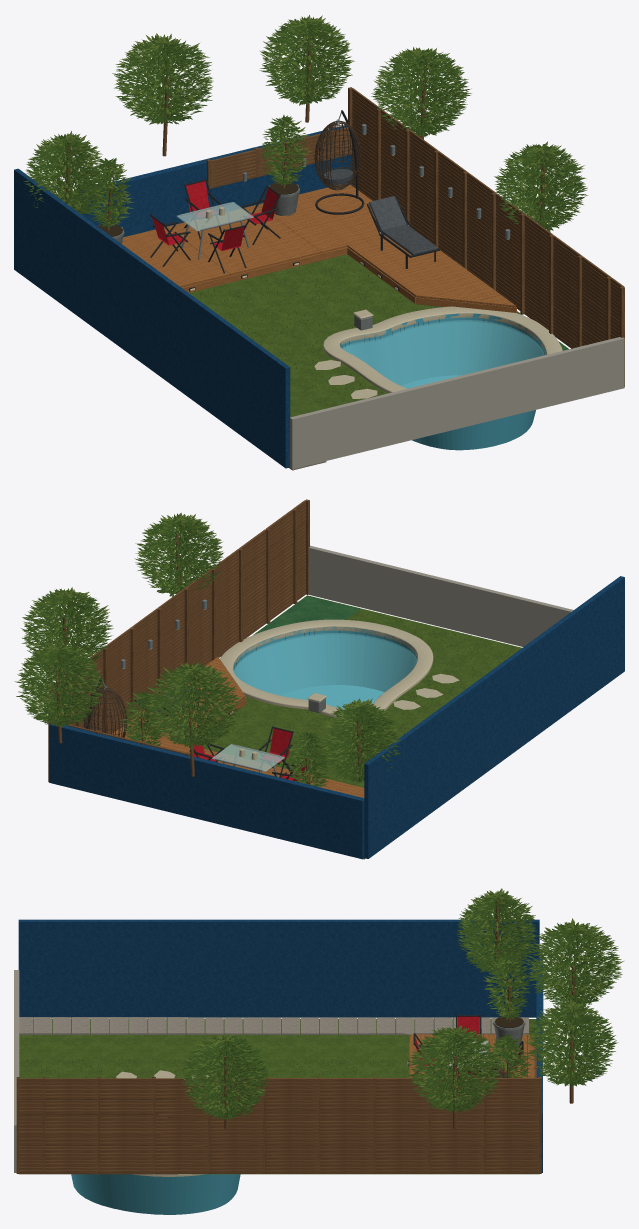
Rendered from common.glb.
3 views of the same model, one above another, from view 1: azimuth 30°, elevation 25°; view 2: azimuth 150°, elevation 25°; view 3: azimuth 270°, elevation 25° (orthographic). The views are drawn at different scales.
Visible parts, largest first — view 1: MESH_SURFACES, MESH_VEGETATION, MESH_FURNITURE, WATER_SURFACE; view 2: MESH_SURFACES, MESH_VEGETATION, WATER_SURFACE, MESH_FURNITURE; view 3: MESH_SURFACES, MESH_VEGETATION, MESH_FURNITURE.
Boxes of the visible parts, <box> form: MESH_SURFACES: <box>14,87,624,470</box>; MESH_VEGETATION: <box>24,15,587,408</box>; MESH_FURNITURE: <box>150,110,439,273</box>; WATER_SURFACE: <box>342,320,544,388</box>; MESH_SURFACES: <box>48,499,624,859</box>; MESH_VEGETATION: <box>14,512,518,787</box>; WATER_SURFACE: <box>234,633,416,708</box>; MESH_FURNITURE: <box>83,677,305,782</box>; MESH_SURFACES: <box>14,919,543,1214</box>; MESH_VEGETATION: <box>23,888,623,1128</box>; MESH_FURNITURE: <box>413,1015,523,1077</box>.
Size of the model in its own units: 10.84 by 5.78 by 14.42.
22 materials, 10 textured.
